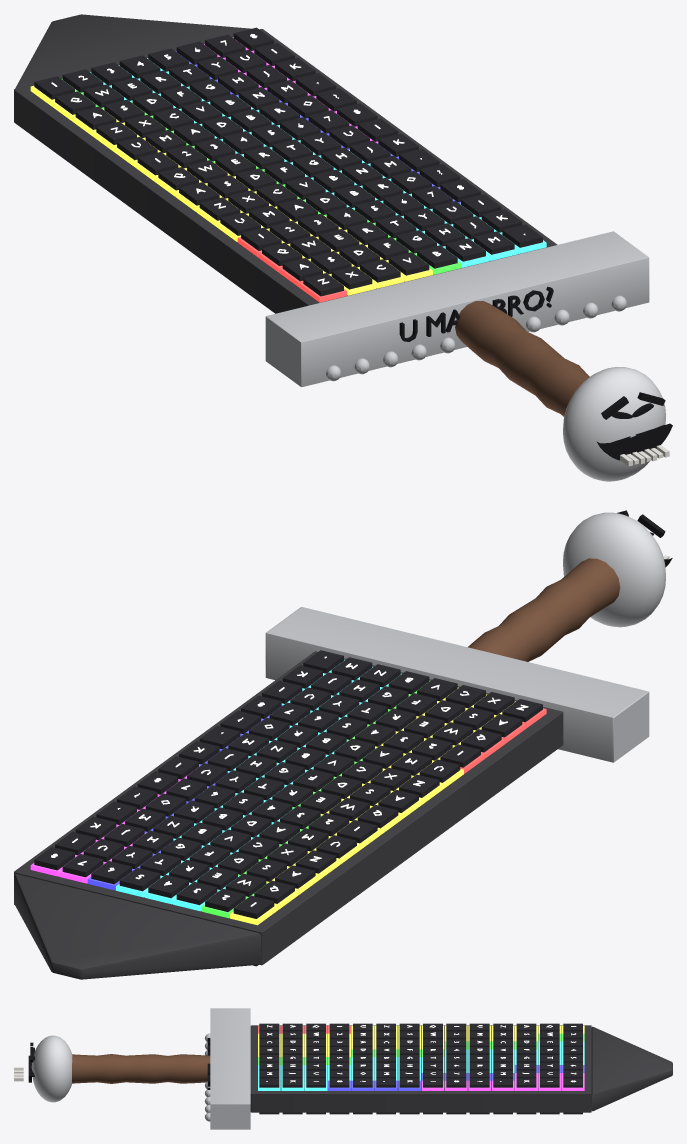
File: keyboard_sword.glb
3 renders of one model, top to bottom at view 1: azimuth 30°, elevation 25°; view 2: azimuth 150°, elevation 25°; view 3: azimuth 270°, elevation 25°, orthographic. The views are drawn at different scales.
Parts seen in each view (by area): view 1: KeyboardSword; view 2: KeyboardSword; view 3: KeyboardSword.
Part boxes in pixels (<box>): KeyboardSword: <box>14,14,672,481</box>; KeyboardSword: <box>14,510,672,979</box>; KeyboardSword: <box>14,1008,672,1129</box>.
Size of the model in its own units: 0.42 by 0.1254 by 1.22.
